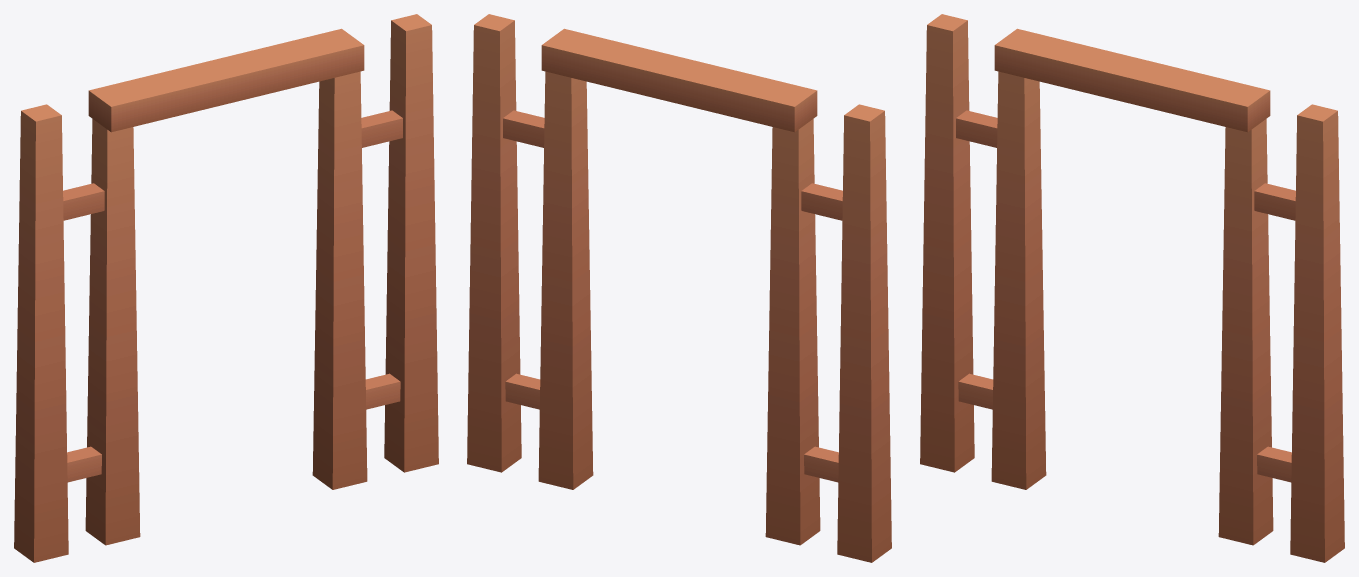
File: fence-doorway.glb
3 renders of one model, left to right at view 1: azimuth 30°, elevation 25°; view 2: azimuth 150°, elevation 25°; view 3: azimuth 330°, elevation 25°, orthographic.
Parts seen in each view (by area): view 1: fence-doorway; view 2: fence-doorway; view 3: fence-doorway.
Part boxes in pixels (box(x1,y1,x2,y2)): fence-doorway: box(14, 14, 438, 562); fence-doorway: box(467, 14, 891, 562); fence-doorway: box(920, 14, 1344, 562).
Size of the model in its own units: 0.5 by 0.5175 by 0.0481.
Materials: 1 (1 with a texture image).
